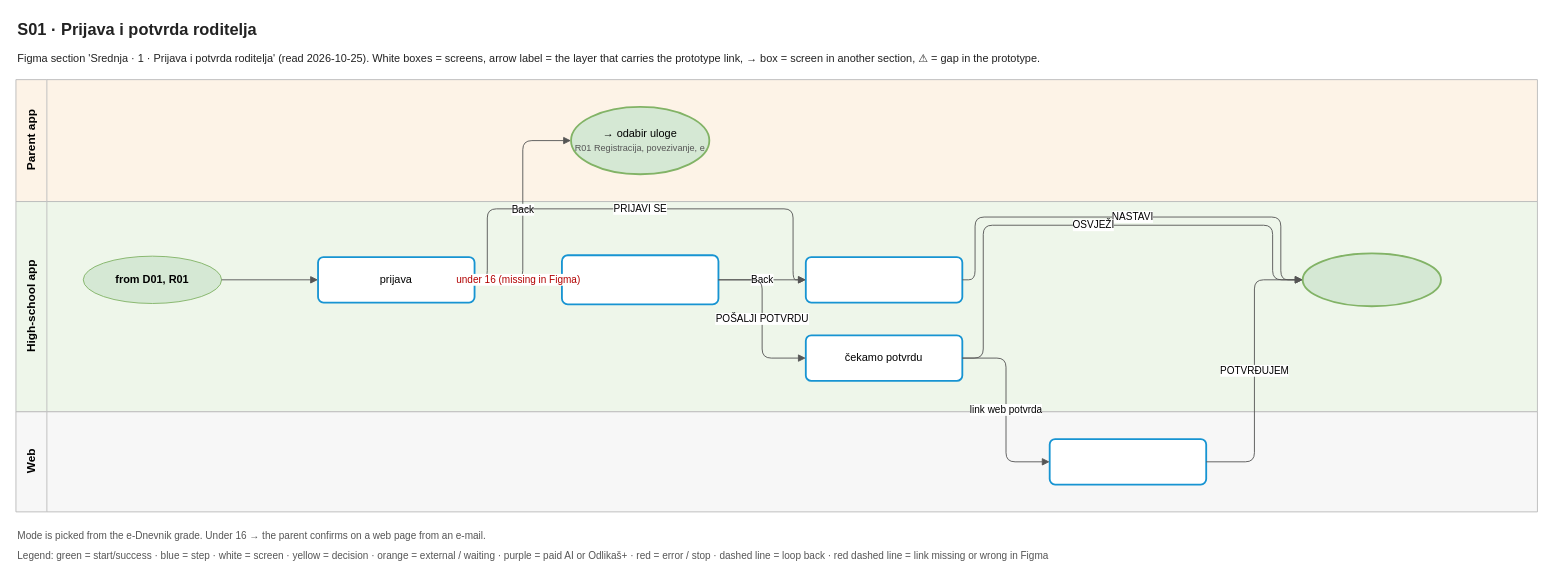
Some shapes in this 1553 by 580 pixel diagram are drawn without their labels. Here are the shapes that lost their labels. From the top down, the centre of each, then its label:
[640,279]: potvrda roditelja (mlađi od 16)
[883,279]: dobrodošli
[1371,279]: → početna S02 Početna i ocjene
[1127,461]: potvrda roditelja
